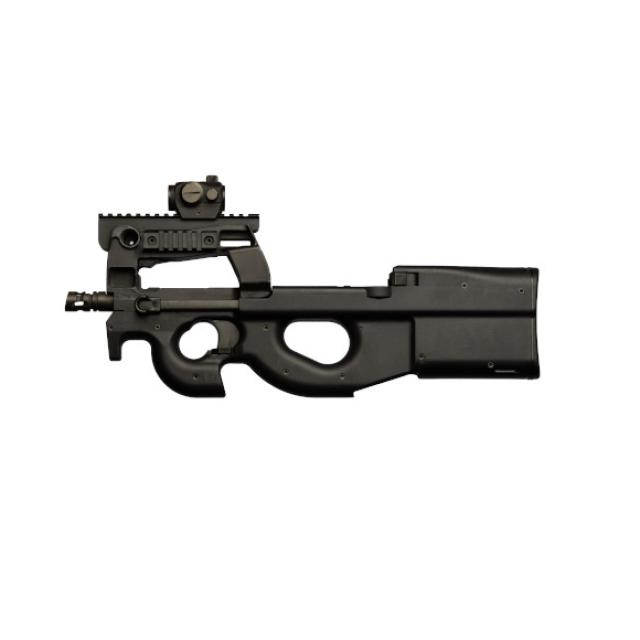Gun: (51, 155, 556, 423)
